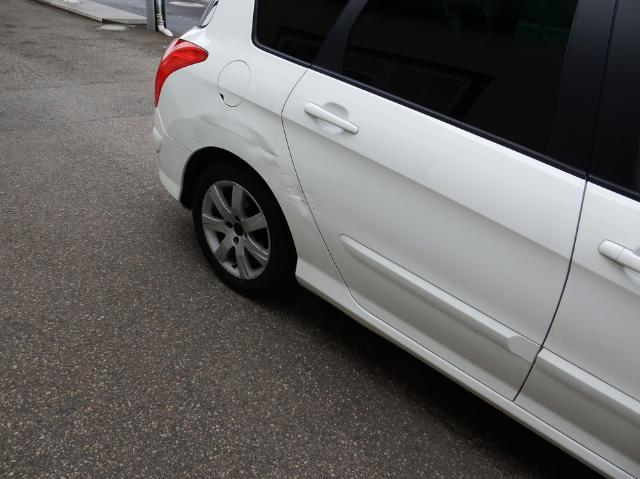Fender: (189, 95, 297, 218)
